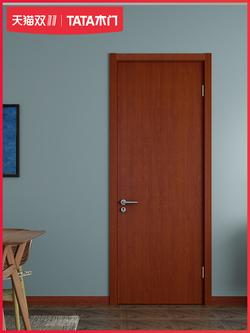door: (116, 61, 206, 305)
